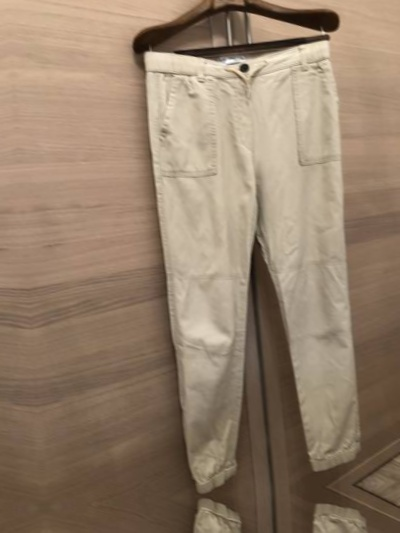Pants: (114, 1, 397, 487), (151, 497, 400, 533)
